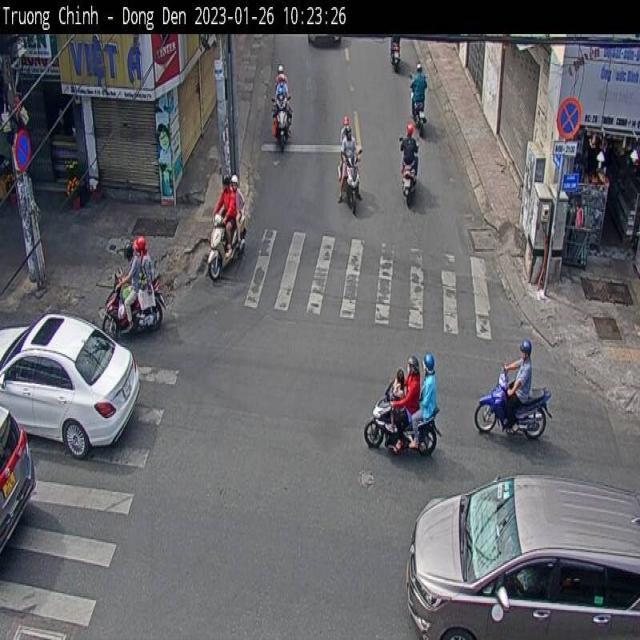with_helmet: (212, 165, 246, 206), (335, 104, 358, 139), (421, 337, 443, 371), (515, 319, 536, 353)
